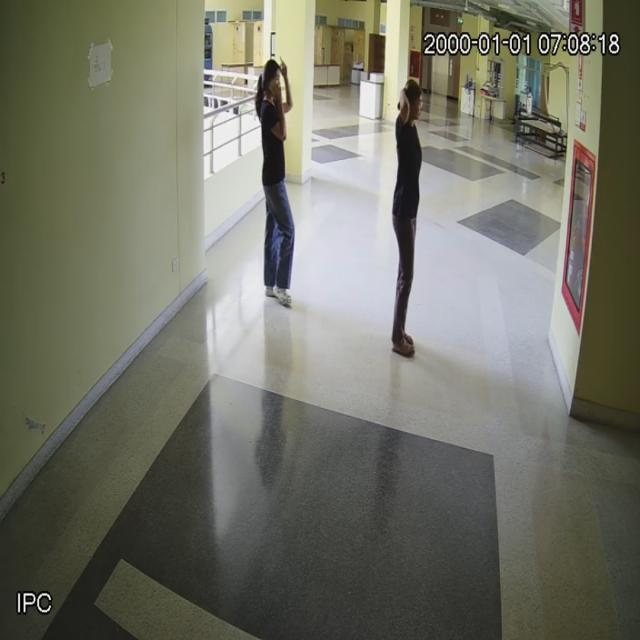normal: (254, 56, 296, 304), (391, 81, 425, 357)
